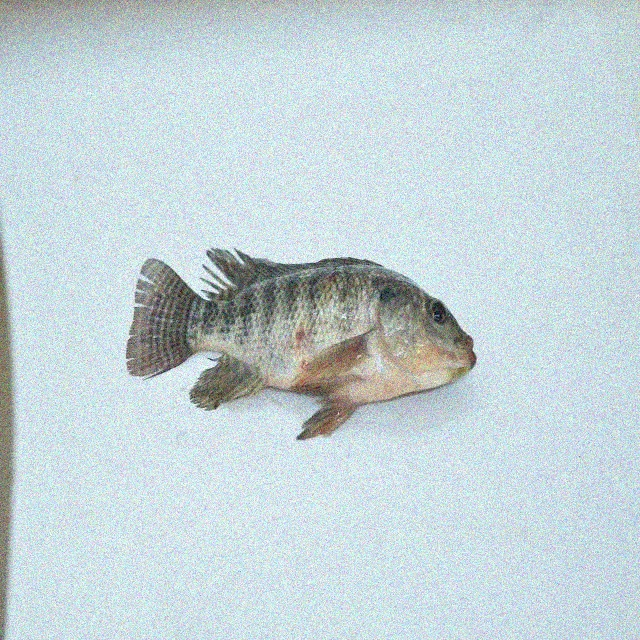Columnaris Disease: (119, 222, 502, 458)
